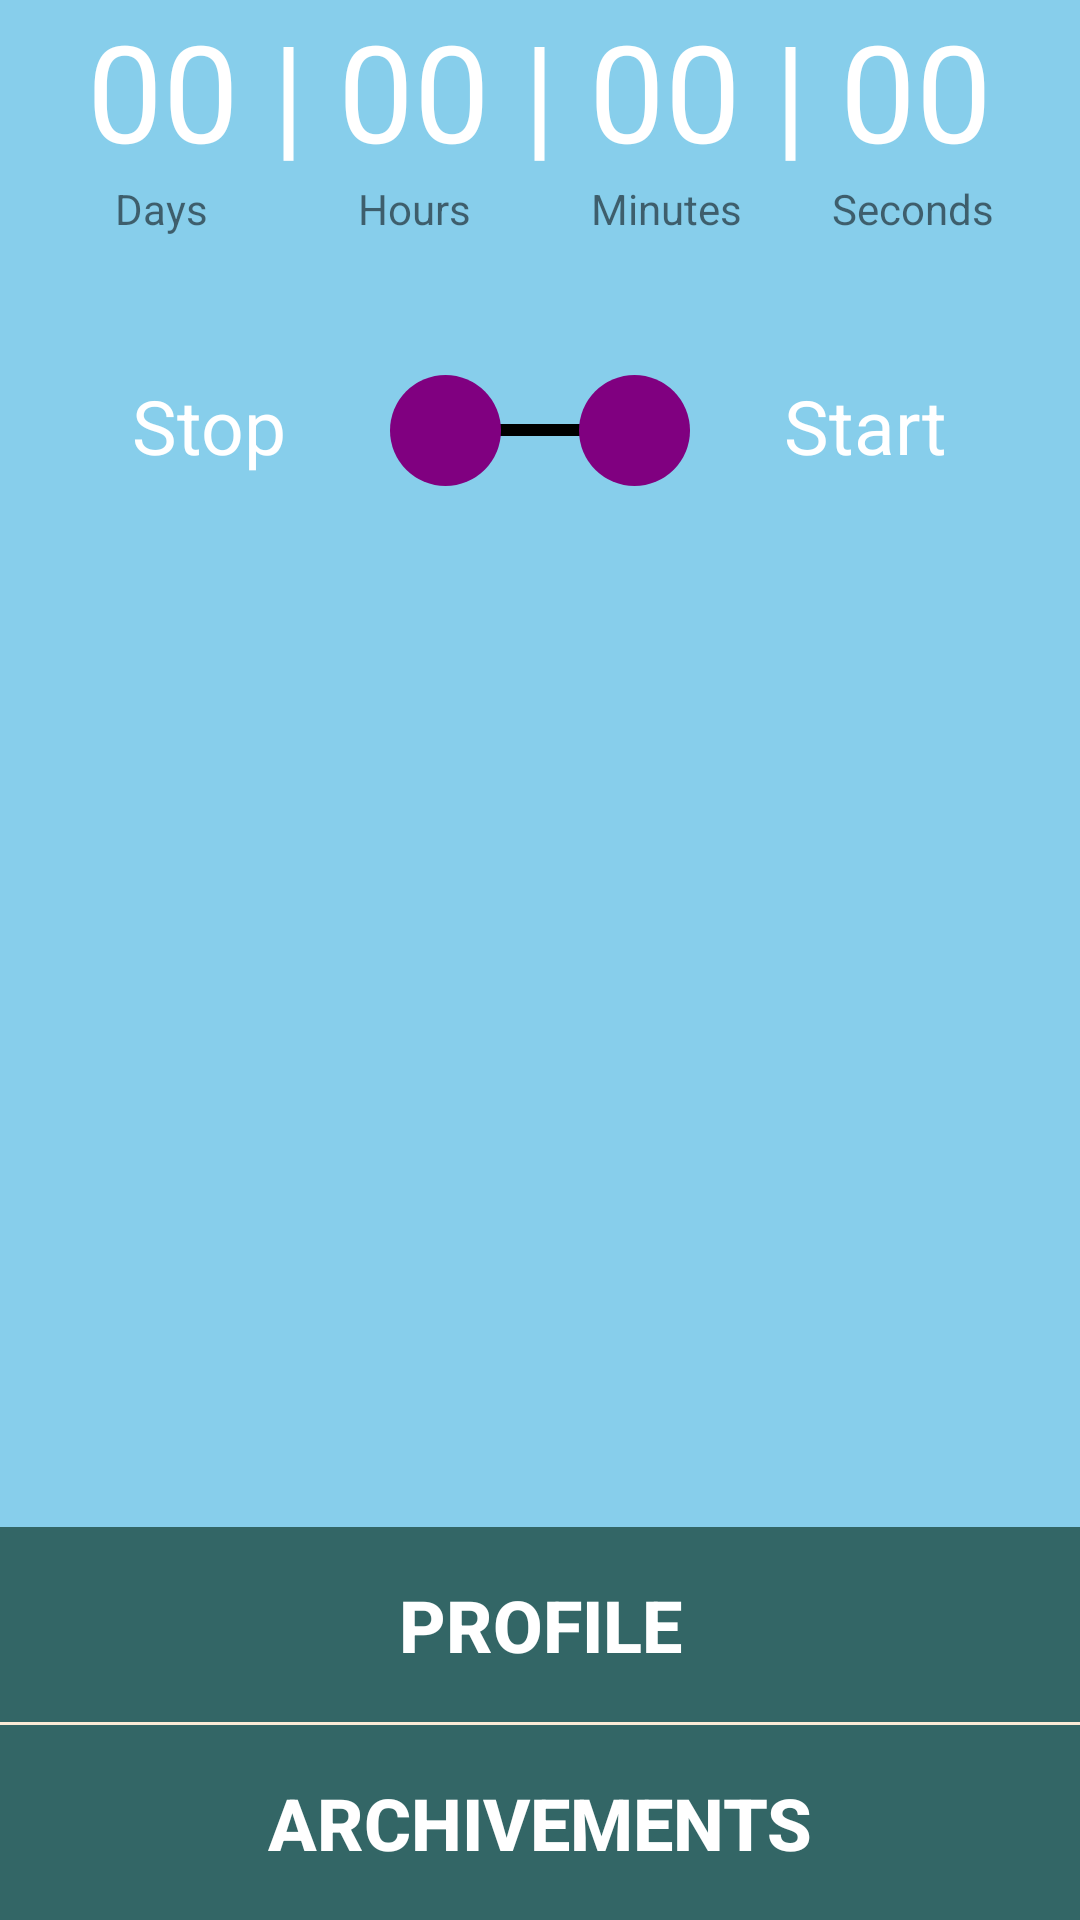

Named icons in this screenshot (1080px×1920px) and their centers, (x,y):
thumby: (445,430), (634,430)
